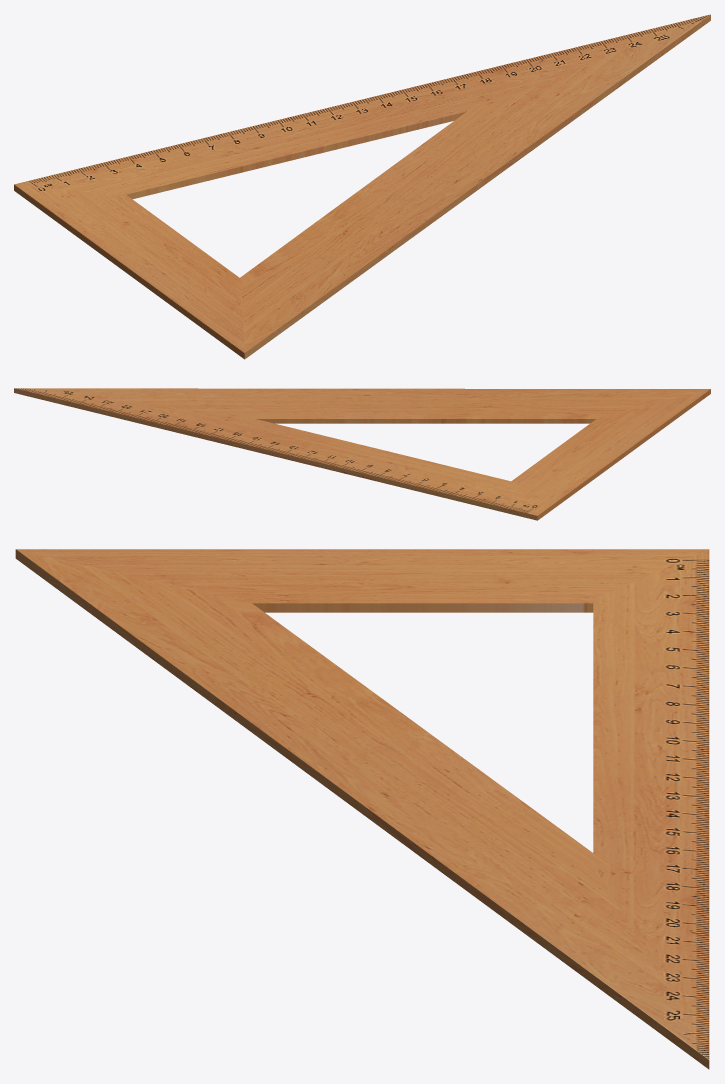
The model's file is Ruler 2.FBX.
The picture shows the model from 3 angles, top to bottom: view 1: azimuth 30°, elevation 25°; view 2: azimuth 150°, elevation 25°; view 3: azimuth 270°, elevation 25°; orthographic projection. The views are drawn at different scales.
Parts seen in each view (by area): view 1: Ruler 2; view 2: Ruler 2; view 3: Ruler 2.
Part boxes in pixels (x1,y1,x2,y2): Ruler 2: [14, 14, 710, 359]; Ruler 2: [14, 388, 710, 520]; Ruler 2: [15, 549, 709, 1069].
Bounding box in the file's own units: 23.36 × 0.2 × 13.39.
Materials: 1 (1 with a texture image).
